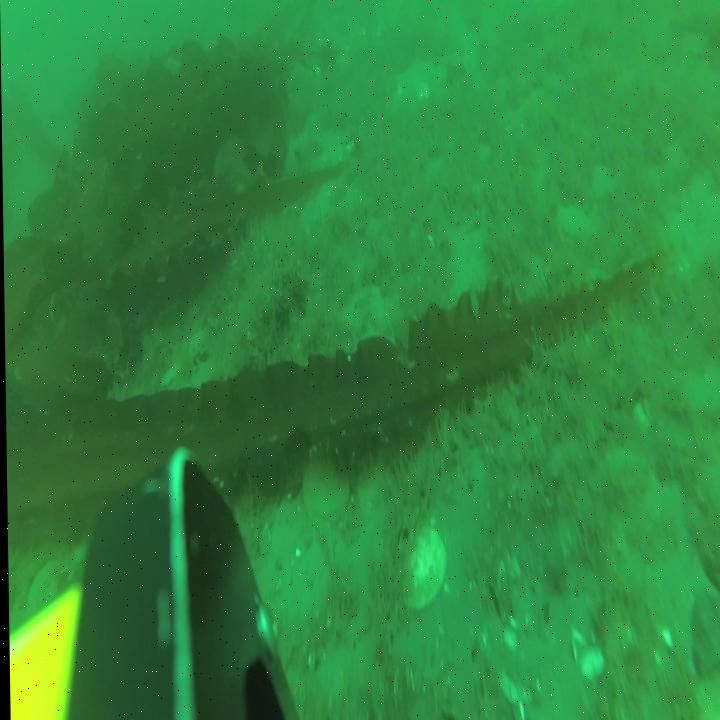scallop: (398, 530, 446, 609), (299, 458, 349, 528)
